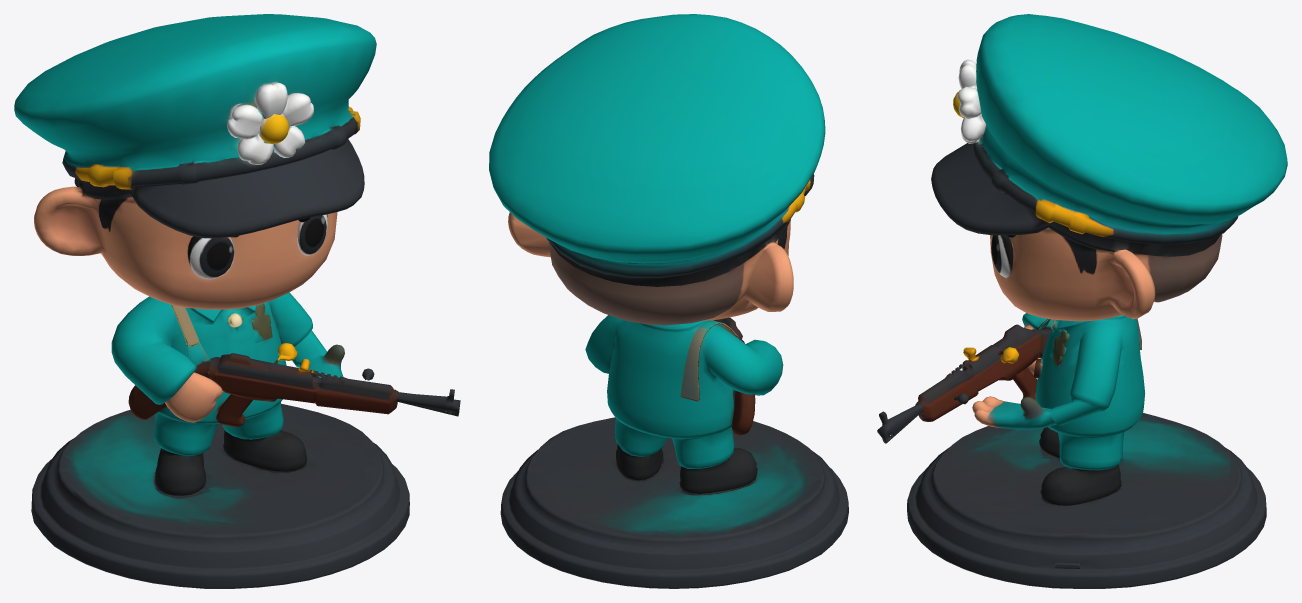
The model's file is cambodia-pawn.glb.
3 views of the same model, side by side, from view 1: azimuth 30°, elevation 25°; view 2: azimuth 150°, elevation 25°; view 3: azimuth 270°, elevation 25° (orthographic). The views are drawn at different scales.
Visible parts, largest first — view 1: tripo_08bd223a_11a3_4be5_8f75_2a9a5dcd06cb; view 2: tripo_08bd223a_11a3_4be5_8f75_2a9a5dcd06cb; view 3: tripo_08bd223a_11a3_4be5_8f75_2a9a5dcd06cb.
Part boxes in pixels (<box>): tripo_08bd223a_11a3_4be5_8f75_2a9a5dcd06cb: <box>14,14,460,588</box>; tripo_08bd223a_11a3_4be5_8f75_2a9a5dcd06cb: <box>489,14,848,588</box>; tripo_08bd223a_11a3_4be5_8f75_2a9a5dcd06cb: <box>877,14,1287,588</box>.
Bounding box in the file's own units: 0.6792 × 0.9995 × 0.7817.
Materials: 1 (1 with a texture image).
